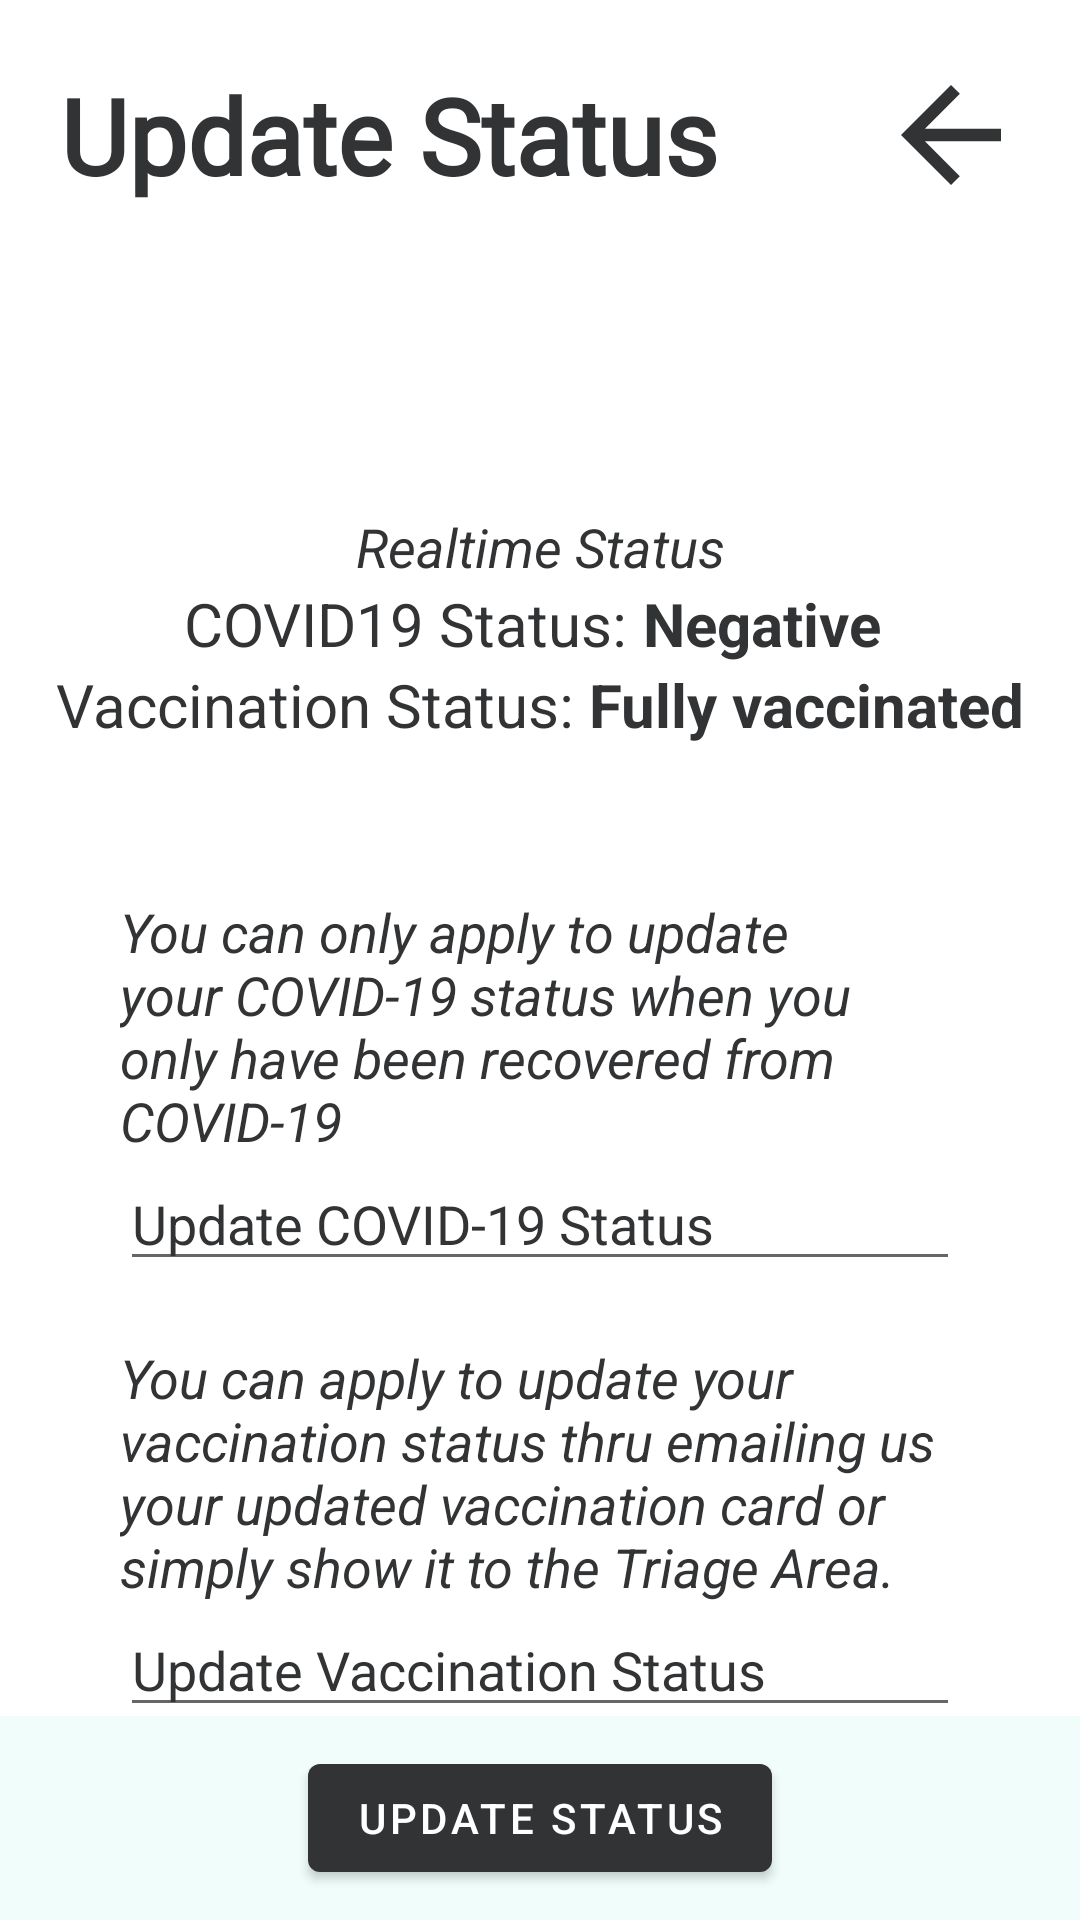

Point at icon controls on the screen. Image size 1080px×1920px, points as (x,y).
back arrow: (951,135)
